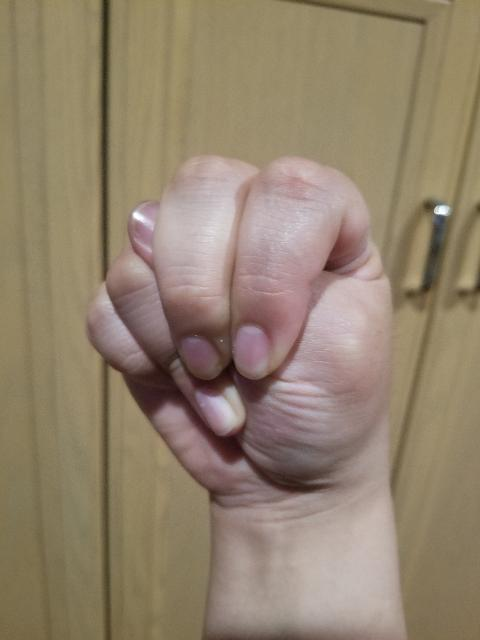N: (75, 145, 399, 501)
